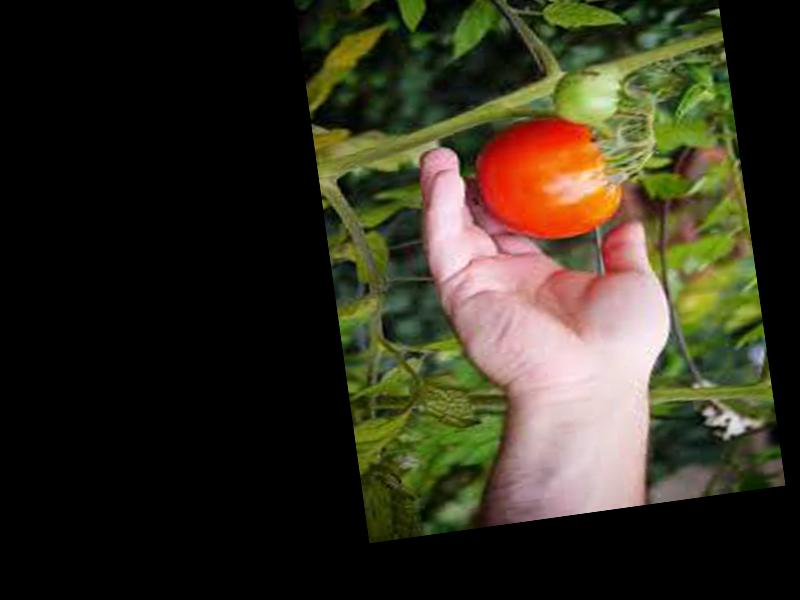Tomato: (470, 105, 630, 249)
